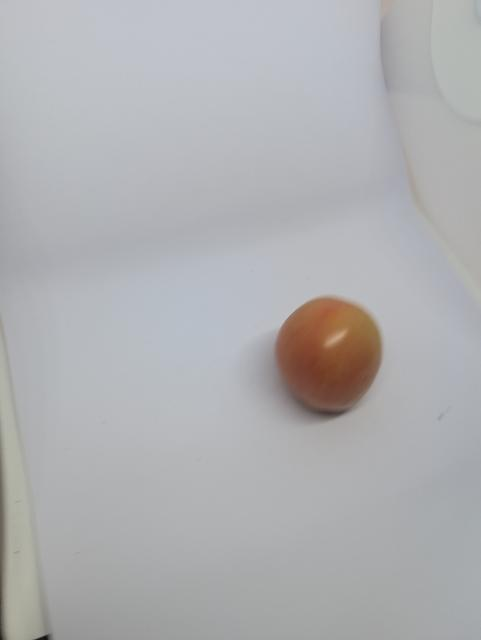turning: (269, 293, 388, 418)
